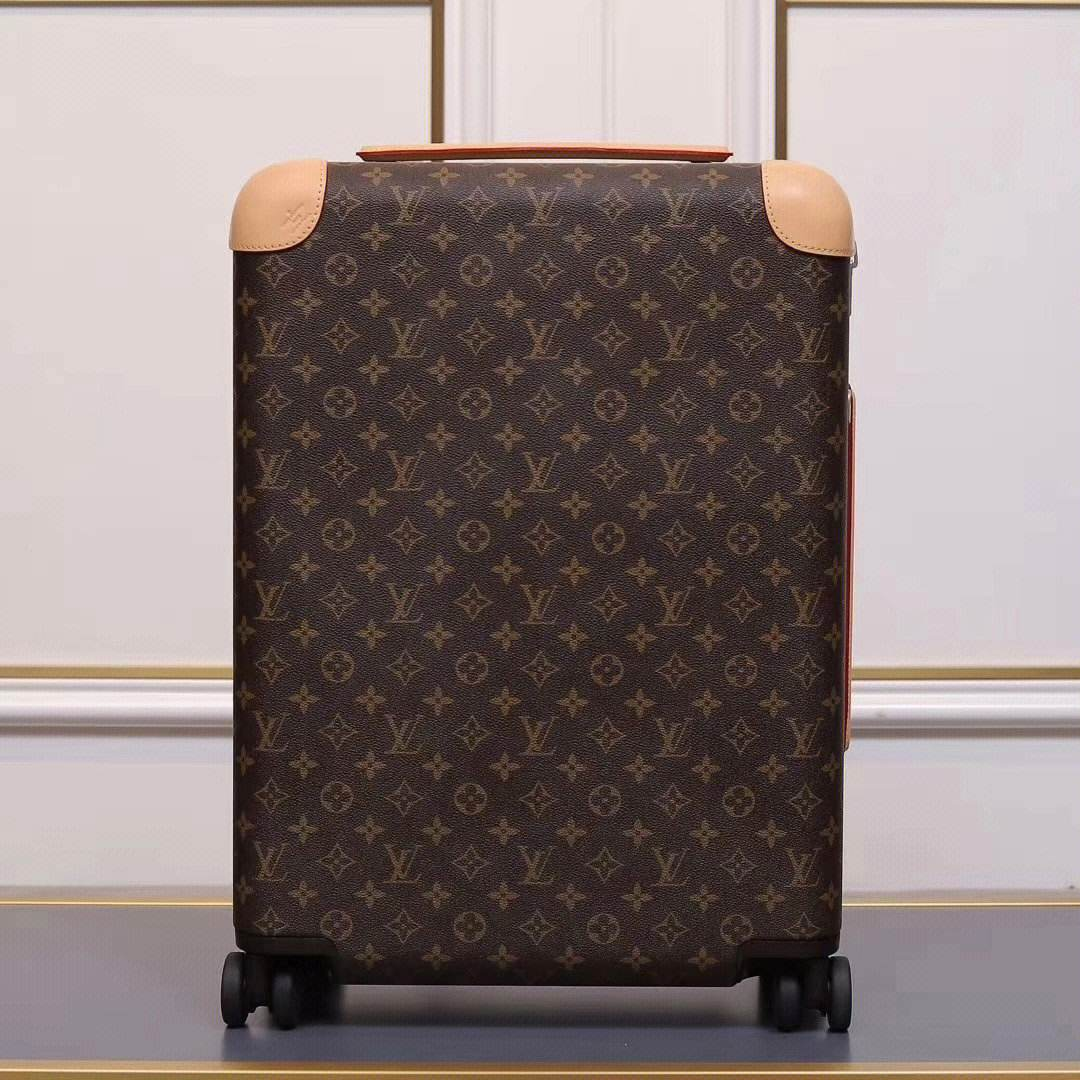box: (233, 162, 855, 987)
handle: (353, 142, 740, 164)
wheel: (769, 956, 853, 1032), (220, 951, 301, 1029)
